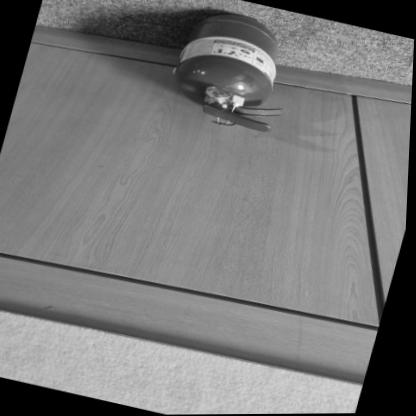FE: (163, 4, 308, 139)
